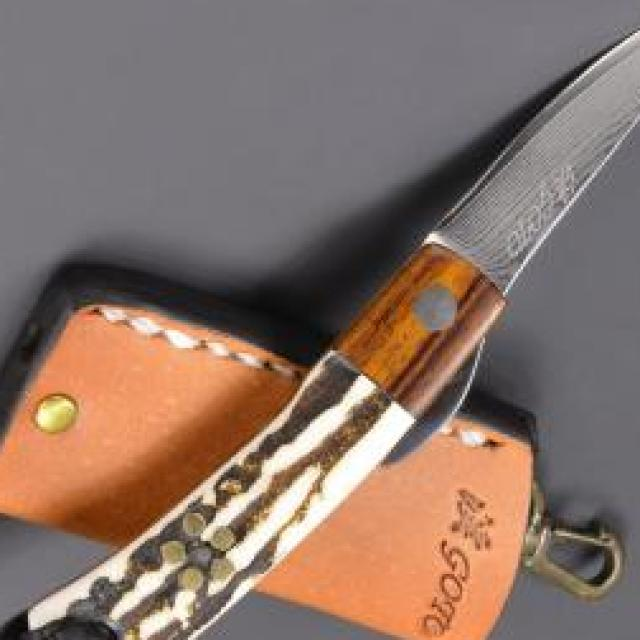knife: (414, 0, 640, 351)
